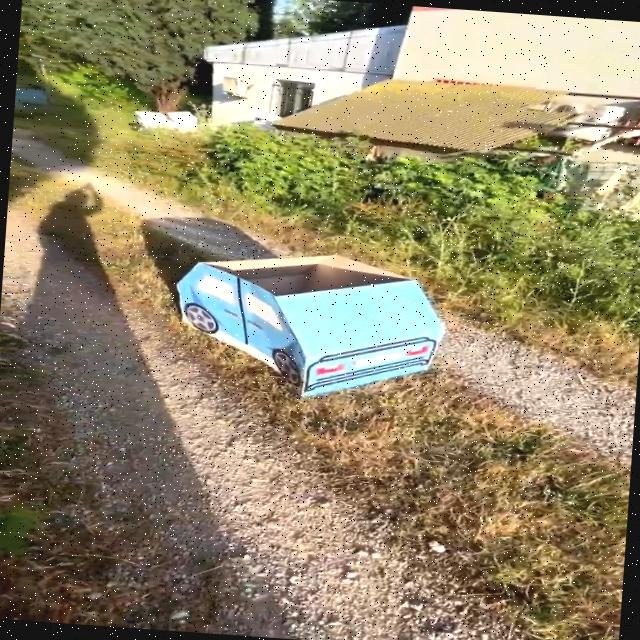blue_car: (98, 209, 483, 431)
